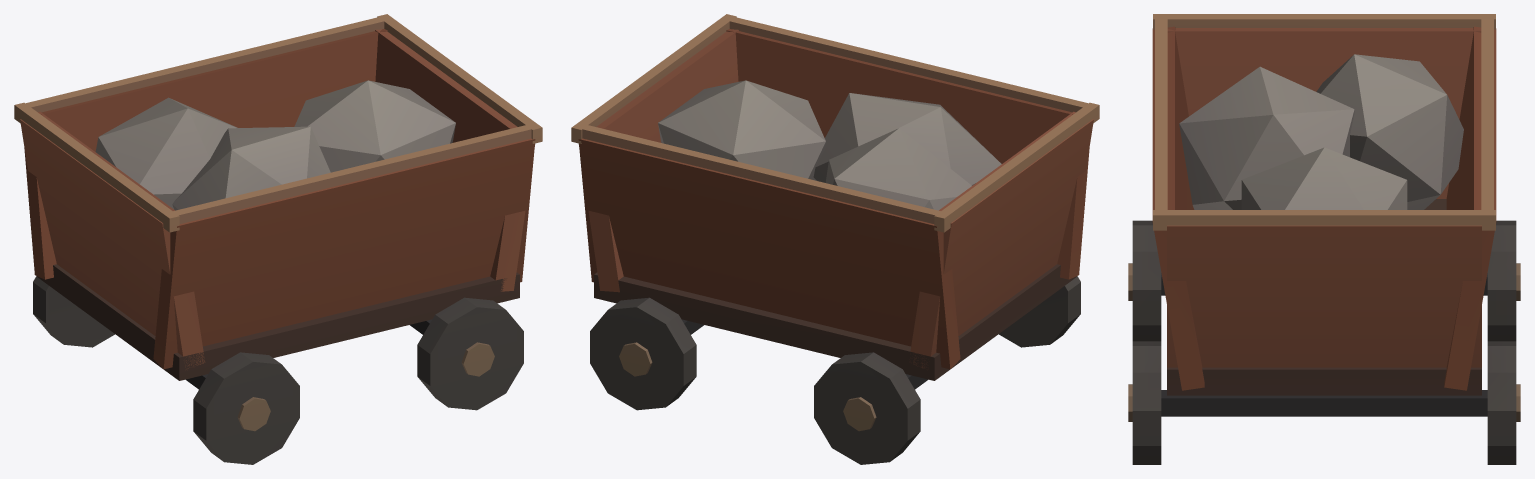
Rendered from BM_Minecart.glb.
3 renders of one model, left to right at view 1: azimuth 30°, elevation 25°; view 2: azimuth 150°, elevation 25°; view 3: azimuth 270°, elevation 25°, orthographic. The views are drawn at different scales.
Parts seen in each view (by area): view 1: BM_Minecart__Body; view 2: BM_Minecart__Body; view 3: BM_Minecart__Body.
Boxes of the visible parts, x1,y1,x2,y2 form: BM_Minecart__Body: [14, 14, 542, 464]; BM_Minecart__Body: [571, 14, 1099, 464]; BM_Minecart__Body: [1128, 14, 1520, 464].
Size of the model in its own units: 8.36 by 5.86 by 6.86.
